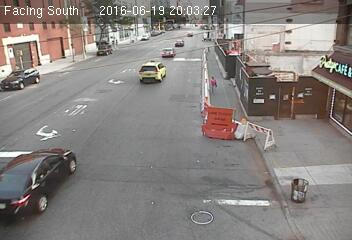neg: (61, 40, 78, 63), (102, 39, 113, 54)
pos: (204, 73, 223, 98)
